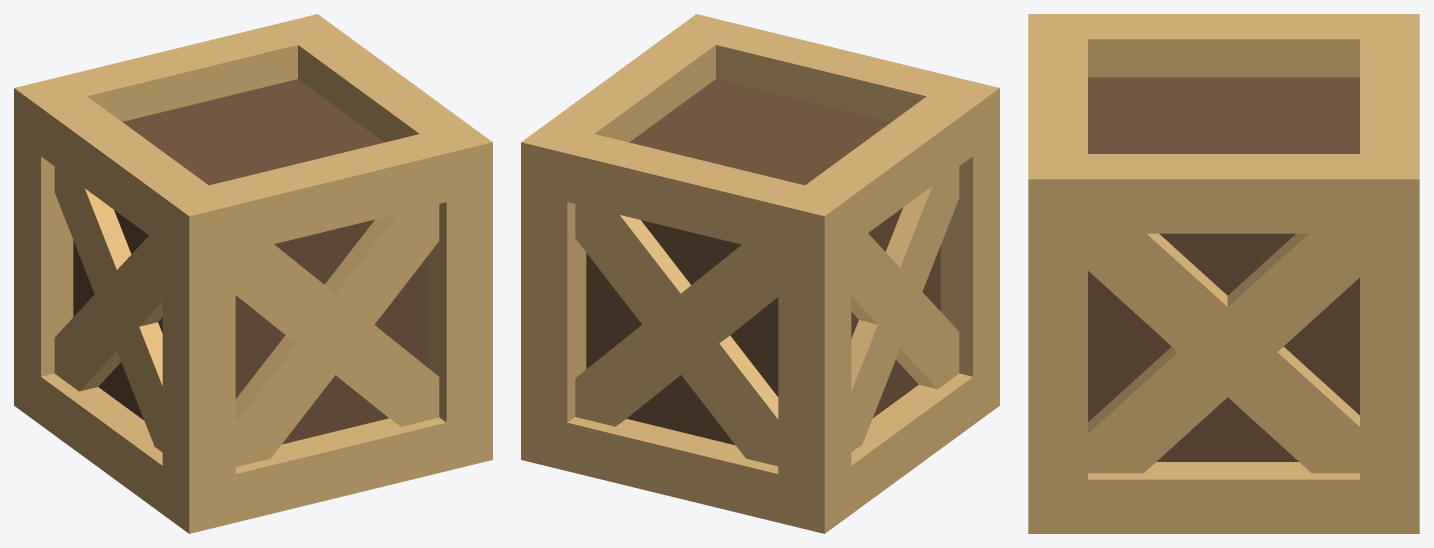
Rendered from test-crate-1.glb.
The picture shows the model from 3 angles, left to right: view 1: azimuth 30°, elevation 25°; view 2: azimuth 150°, elevation 25°; view 3: azimuth 270°, elevation 25°; orthographic projection. The views are drawn at different scales.
Visible parts, largest first — view 1: Cube, Cube.006, Cube.002, Cube.003, Cube.005; view 2: Cube, Cube.004, Cube.008, Cube.005, Cube.003; view 3: Cube, Cube.001, Cube.007.
Boxes of the visible parts, x1,y1,x2,y2 form: Cube: [14, 14, 492, 533]; Cube.006: [235, 204, 439, 466]; Cube.002: [235, 244, 439, 426]; Cube.003: [54, 166, 162, 452]; Cube.005: [54, 235, 162, 391]; Cube: [521, 14, 999, 533]; Cube.004: [575, 204, 778, 466]; Cube.008: [575, 244, 778, 426]; Cube.005: [851, 166, 959, 452]; Cube.003: [851, 233, 959, 389]; Cube: [1028, 14, 1419, 533]; Cube.001: [1088, 233, 1359, 473]; Cube.007: [1088, 233, 1359, 473].
Bounding box in the file's own units: 2 × 2 × 2.
